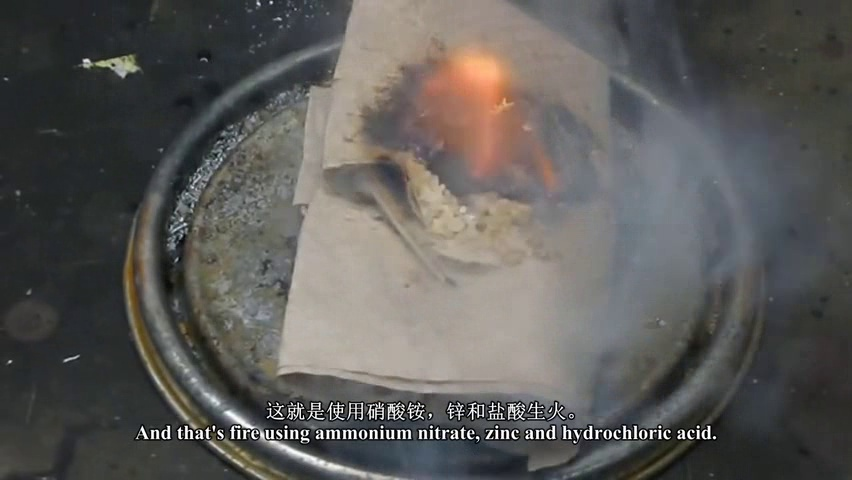fire: (411, 32, 563, 203)
